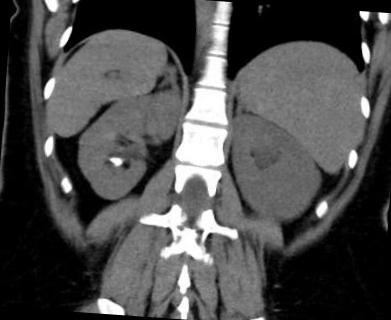Tas_Var: (107, 156, 123, 168)
